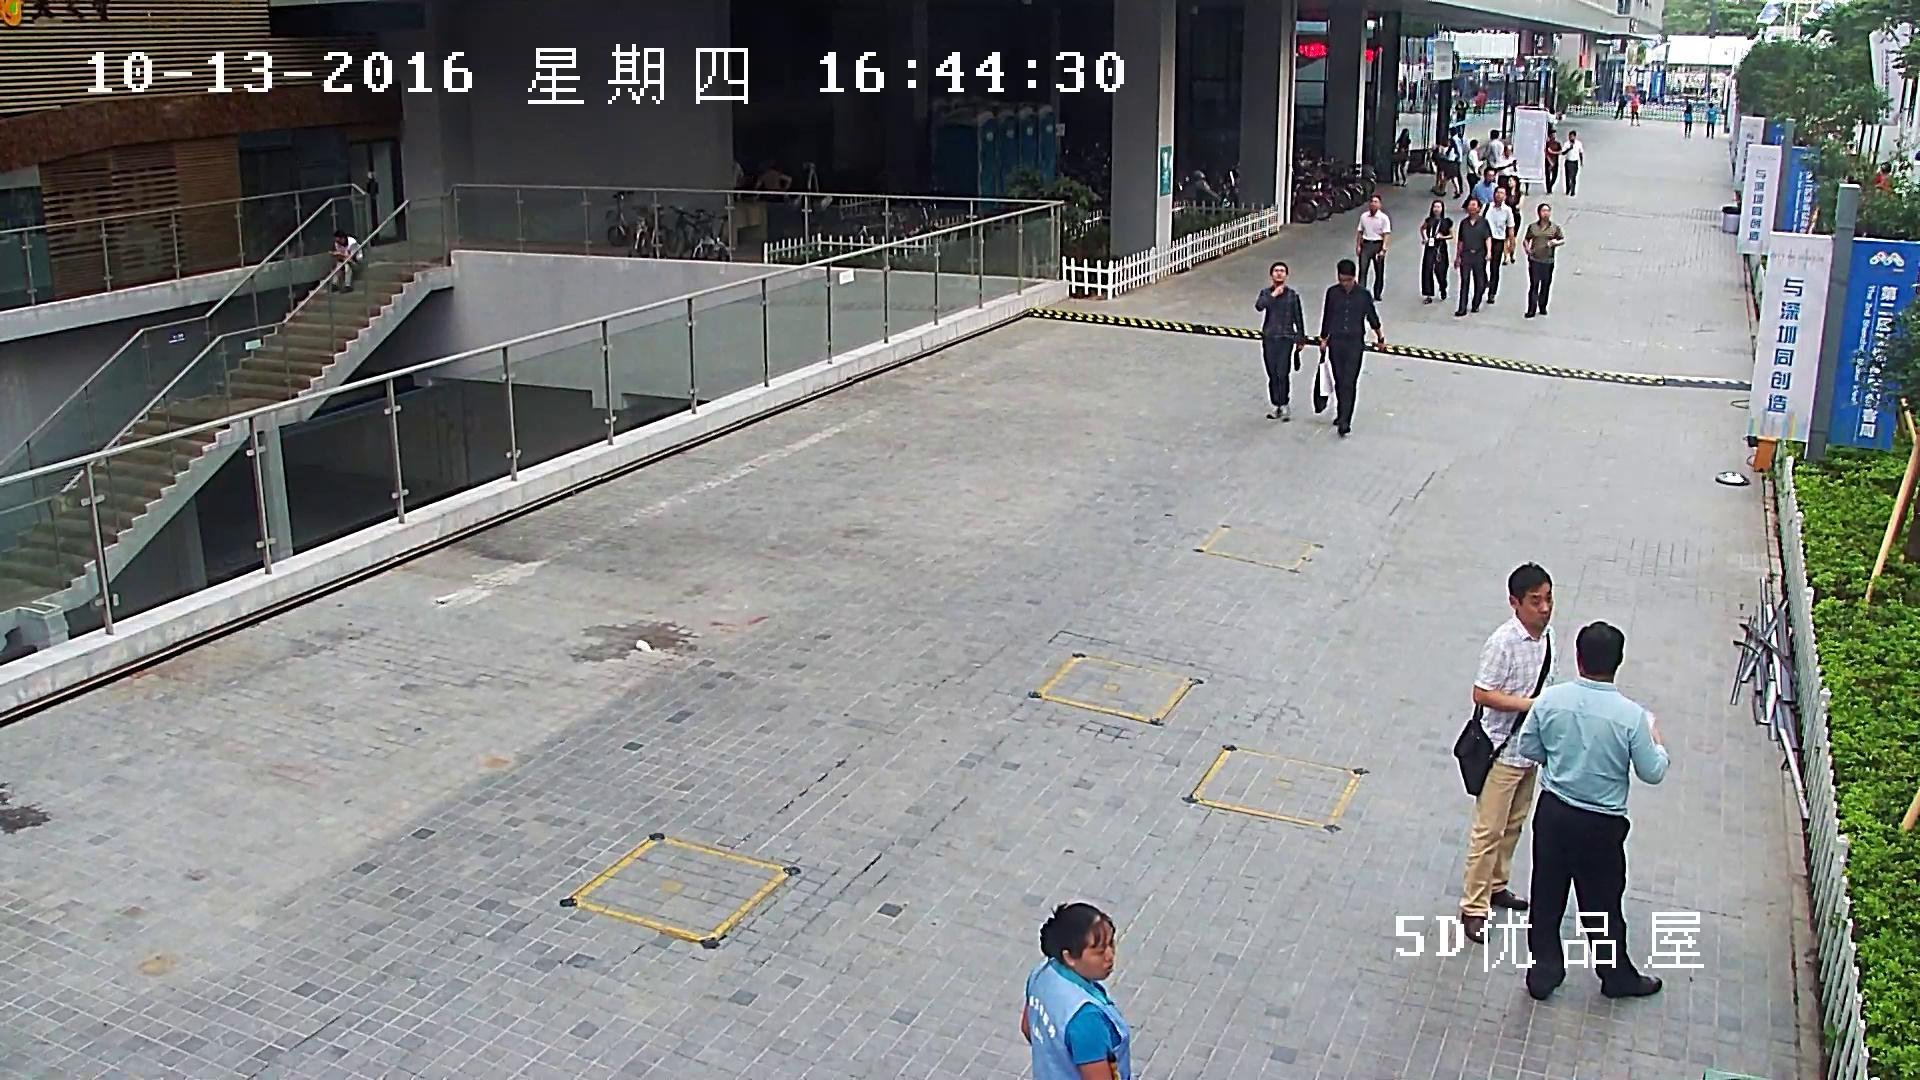person: (1516, 620, 1671, 1000), (1451, 559, 1557, 944), (1020, 901, 1132, 1080), (1313, 258, 1384, 434), (1254, 261, 1304, 421), (1522, 202, 1564, 318), (1453, 197, 1492, 316), (1478, 185, 1515, 304), (1355, 194, 1391, 301), (1419, 200, 1453, 304), (327, 229, 364, 293), (1501, 174, 1521, 265), (1434, 137, 1461, 199), (754, 158, 792, 203), (1461, 139, 1485, 208), (1561, 131, 1583, 197), (1544, 129, 1562, 194), (1391, 128, 1411, 187), (1479, 129, 1504, 174), (1470, 166, 1497, 203), (1495, 144, 1517, 188), (1449, 126, 1463, 196), (1875, 160, 1897, 193), (1454, 99, 1469, 138), (732, 158, 745, 201), (1704, 103, 1717, 138), (1473, 88, 1487, 116), (1613, 91, 1626, 120), (1683, 104, 1692, 139), (1629, 94, 1638, 127), (1547, 107, 1555, 129)
